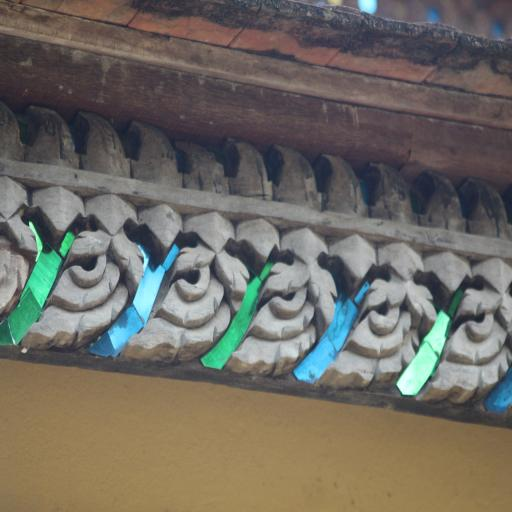la: (18, 210, 148, 355), (124, 224, 252, 362), (322, 266, 436, 388), (230, 246, 341, 370), (428, 284, 512, 403), (23, 98, 77, 172), (80, 106, 132, 178), (412, 167, 465, 236), (133, 114, 181, 188), (228, 134, 274, 204), (276, 144, 321, 210), (465, 174, 511, 238), (321, 154, 365, 217), (368, 158, 412, 221), (182, 136, 226, 194)
